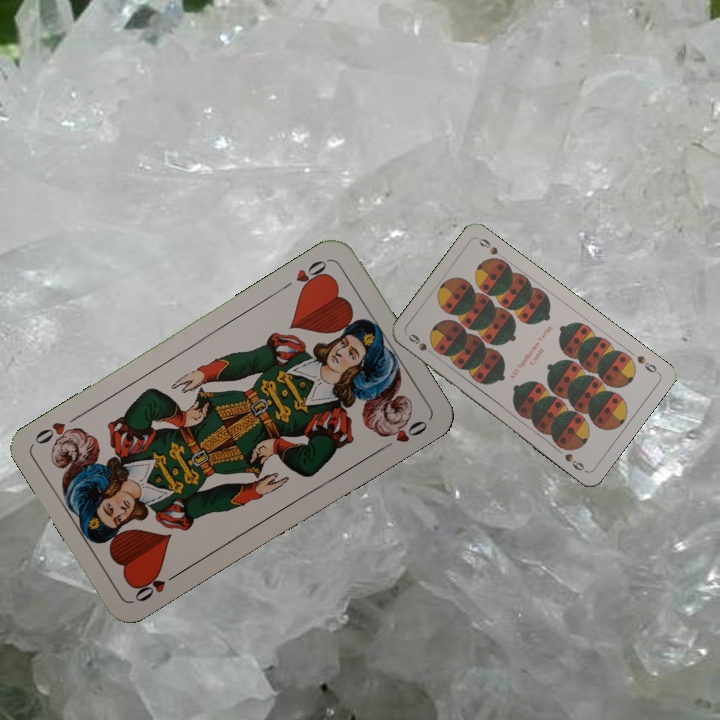HO: (278, 255, 331, 295), (130, 567, 183, 605)
S9: (404, 330, 439, 359), (633, 351, 661, 376)
